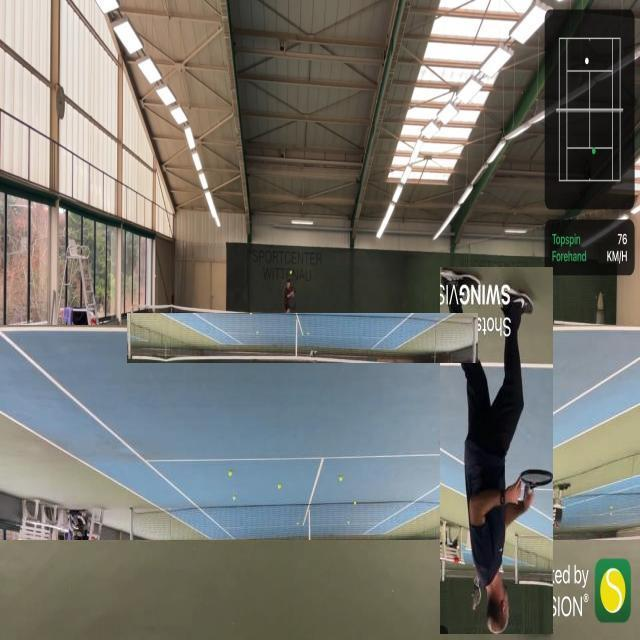court: (0, 326, 640, 542)
net: (128, 313, 480, 363)
player: (440, 267, 553, 634), (282, 279, 296, 326)
